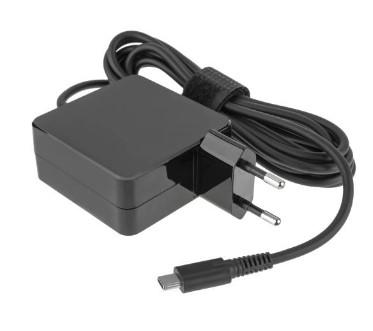cable: (32, 31, 356, 292)
